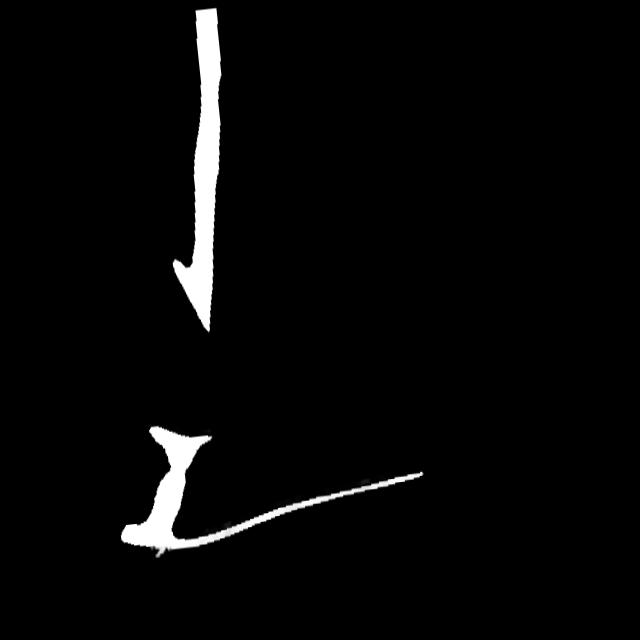sup_pli: (152, 545, 168, 560)
